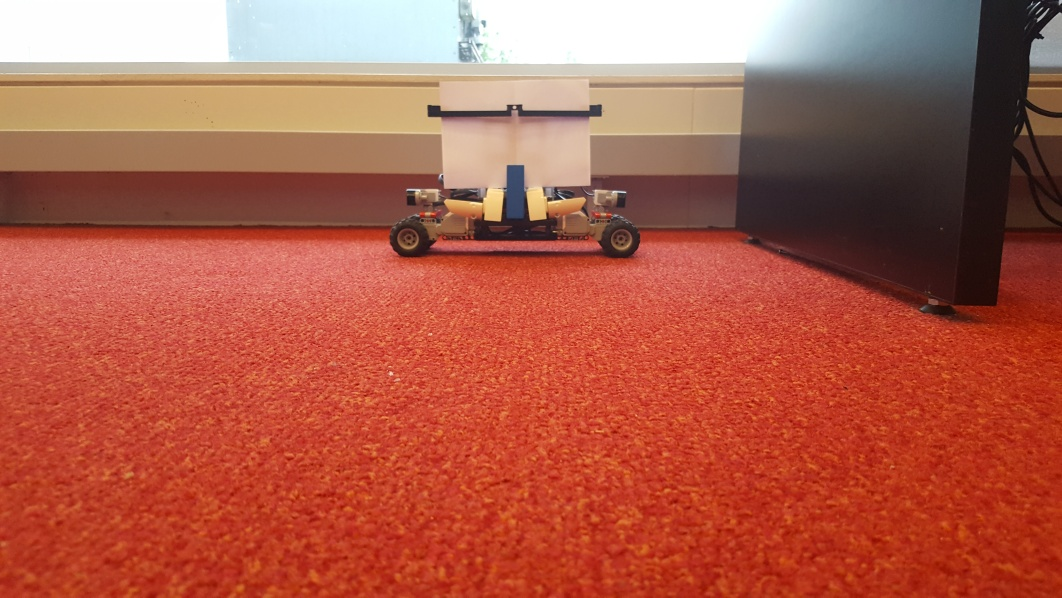car: (388, 73, 642, 263)
